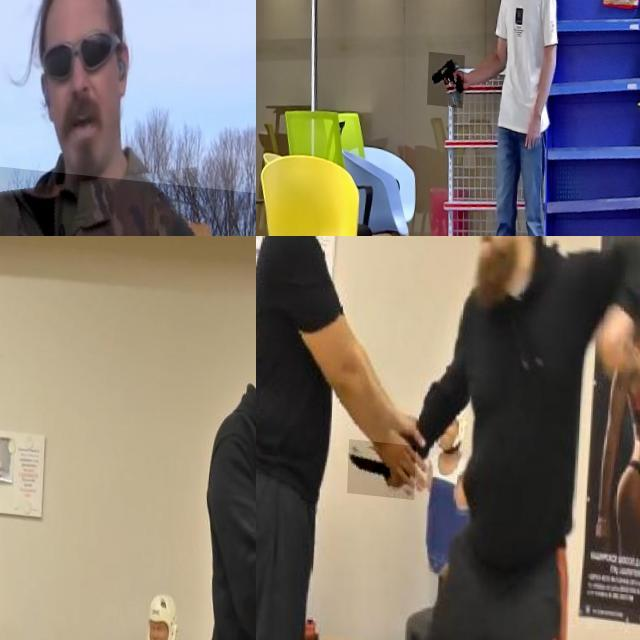-: (350, 434, 419, 493)
gun-knife-thesis - v11 Yolov5 augmented: (0, 146, 256, 236), (430, 46, 468, 101)
